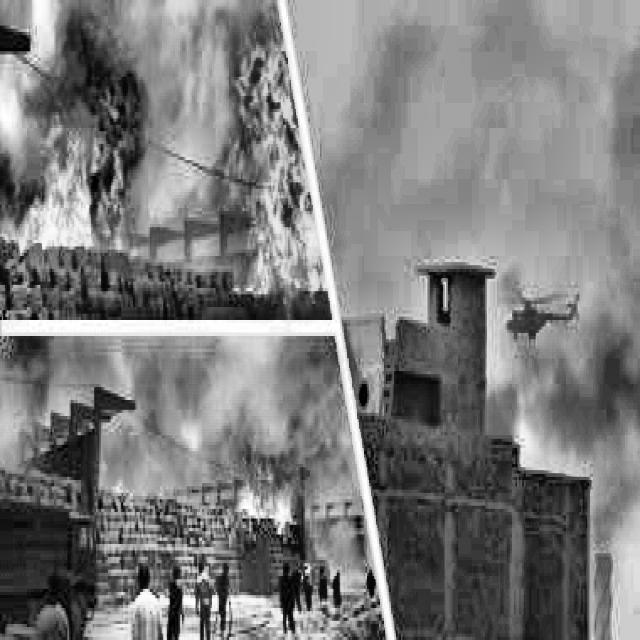fire: (10, 26, 160, 296), (219, 36, 316, 315), (103, 436, 170, 555), (243, 416, 307, 534)
